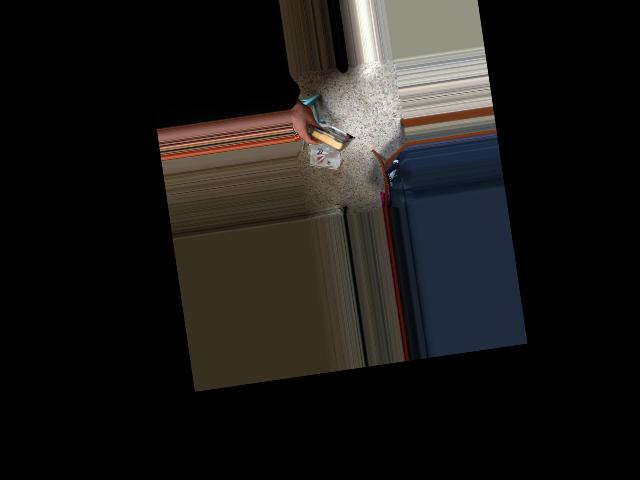cheese: (294, 114, 357, 158)
